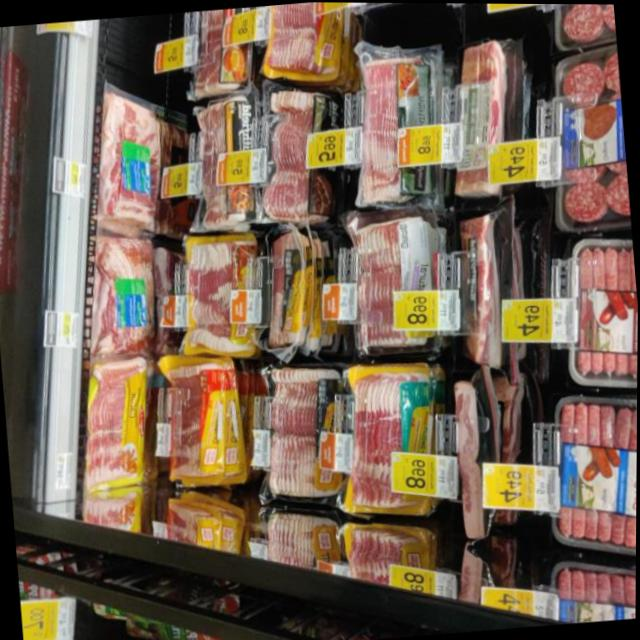Meat: (334, 28, 454, 218), (520, 46, 633, 244), (338, 349, 443, 527), (541, 388, 638, 566), (340, 211, 448, 370), (542, 229, 639, 398), (254, 65, 350, 235), (443, 30, 531, 208), (150, 348, 248, 501), (88, 75, 175, 247), (177, 82, 268, 246), (448, 193, 521, 390), (262, 352, 346, 516), (74, 349, 160, 506), (177, 225, 269, 364), (443, 363, 509, 546), (257, 219, 338, 363), (78, 230, 171, 352)
